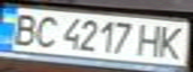1: (97, 18, 118, 54)
2: (78, 16, 100, 53)
4: (57, 16, 84, 52)
7: (112, 19, 139, 55)
B: (6, 11, 42, 47)
C: (30, 14, 60, 48)
H: (136, 21, 166, 57)
K: (154, 24, 190, 61)
